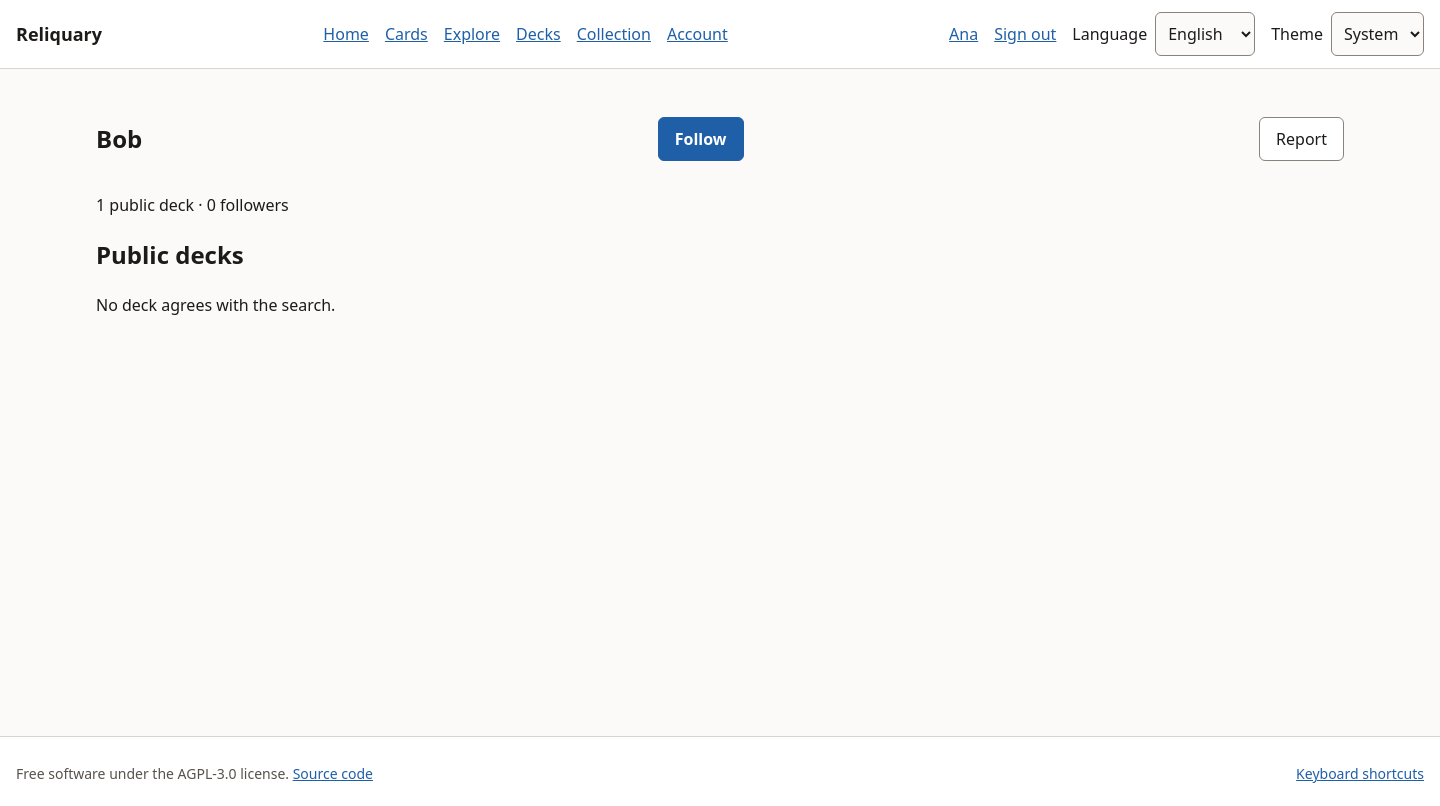
Scenario: report dialog › shows the error of a second report and of the rate limit
Click the button "Report": (1302, 139) x1=1259 y1=117 x2=1344 y2=161
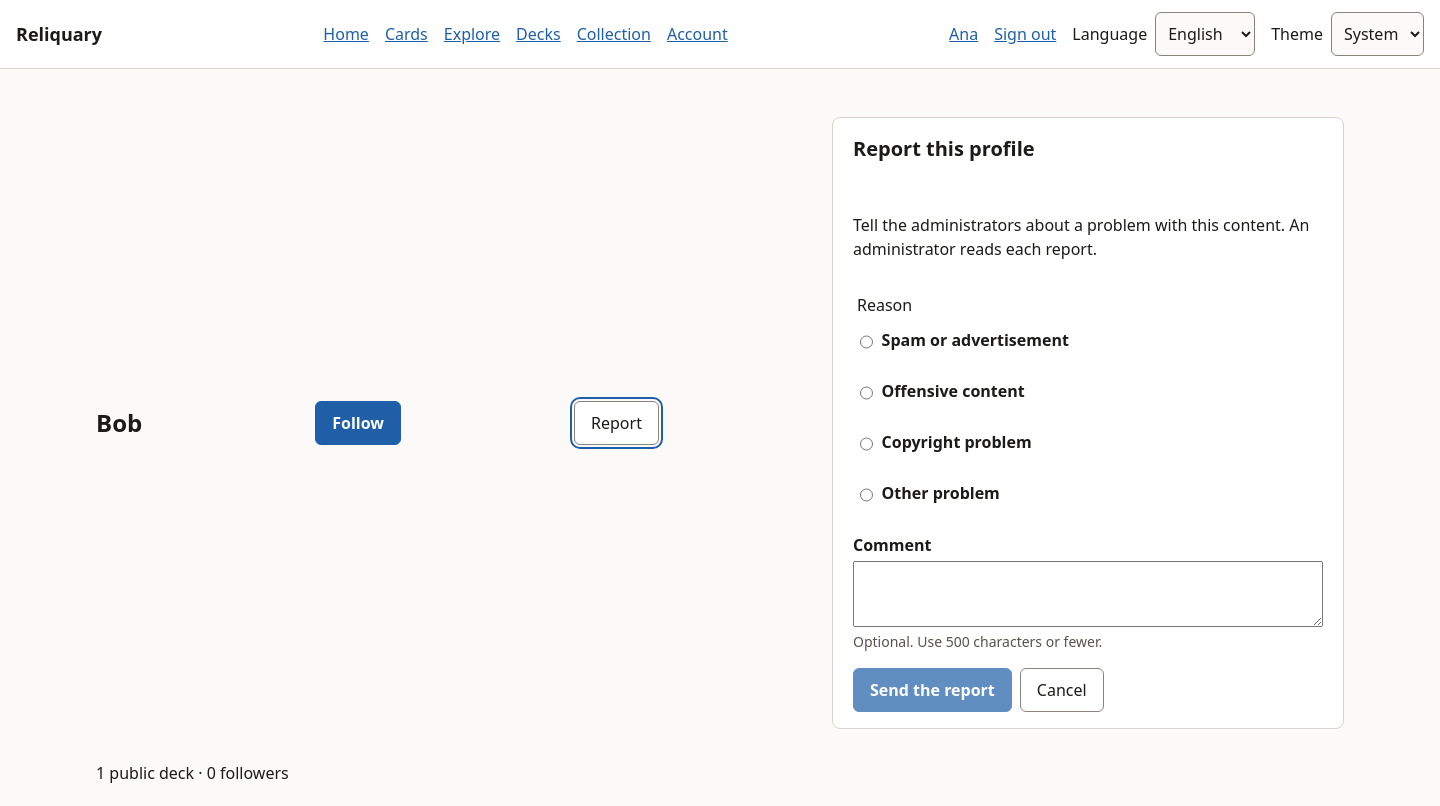
Click the radio button labelled "Other problem": (866, 495) x1=860 y1=473 x2=873 y2=517
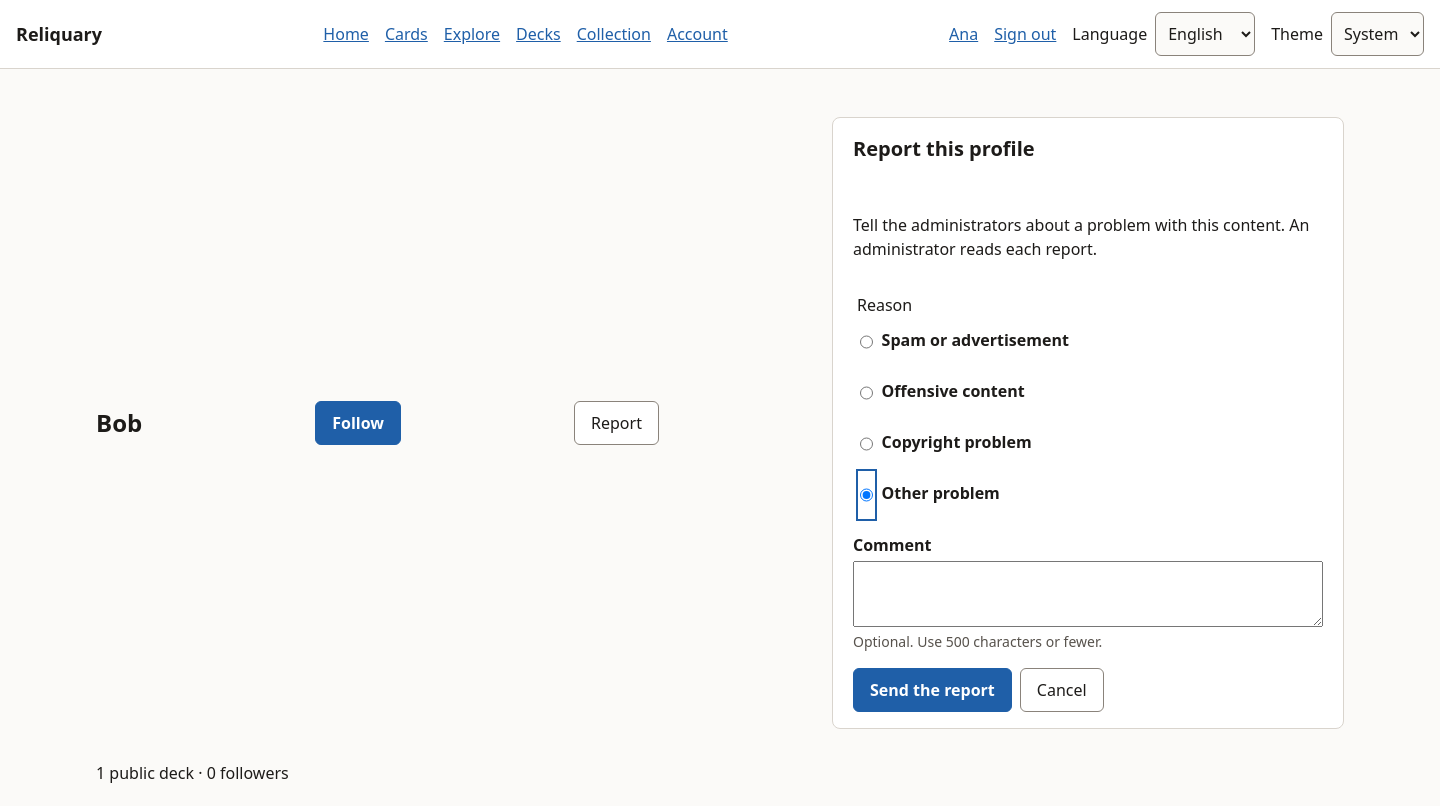
Click the button "Send the report": (932, 690) x1=853 y1=668 x2=1012 y2=712
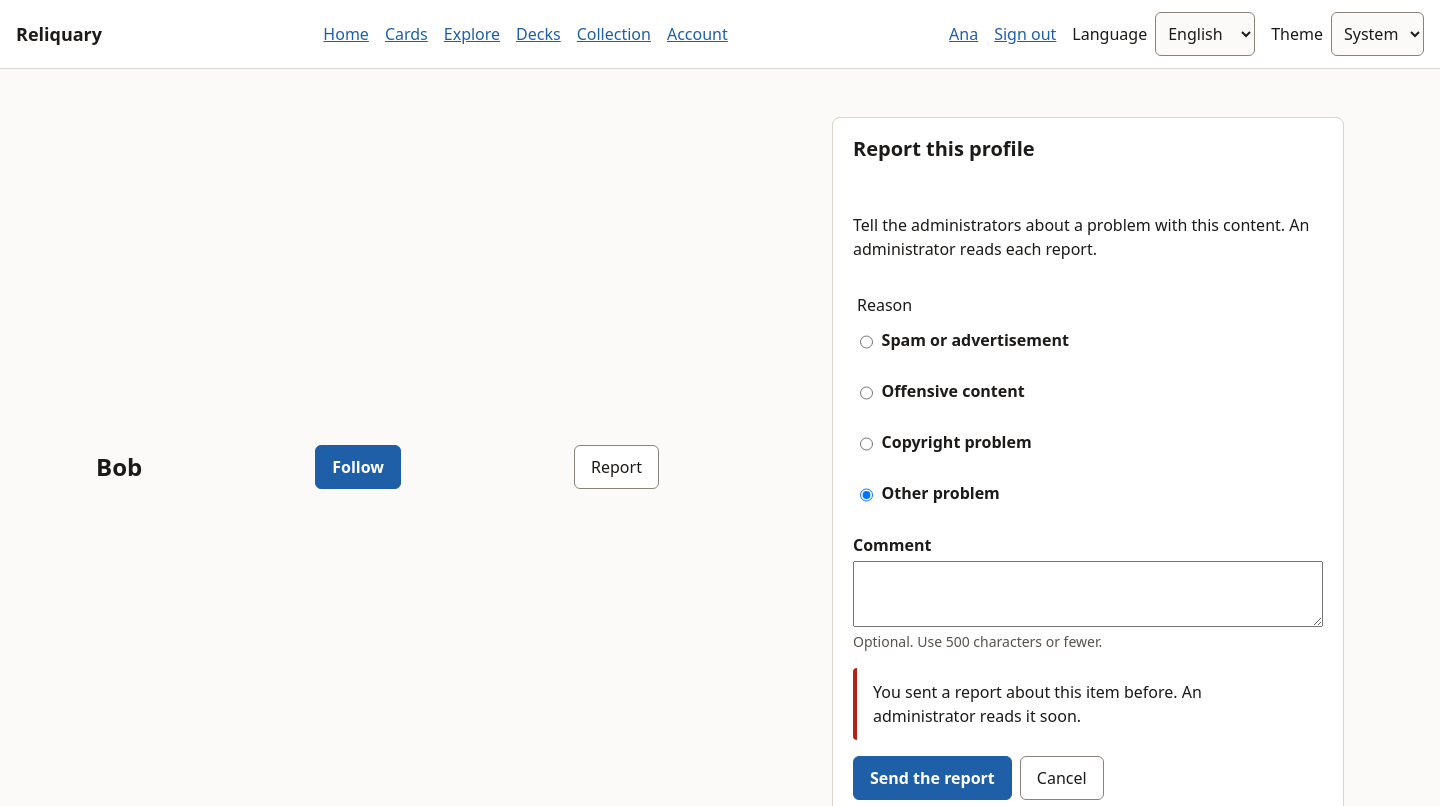
Now the message shows "You sent a report about this item before.", box x1=873 y1=681 x2=1202 y2=727
Click the button "Send the report": (932, 778) x1=853 y1=756 x2=1012 y2=800
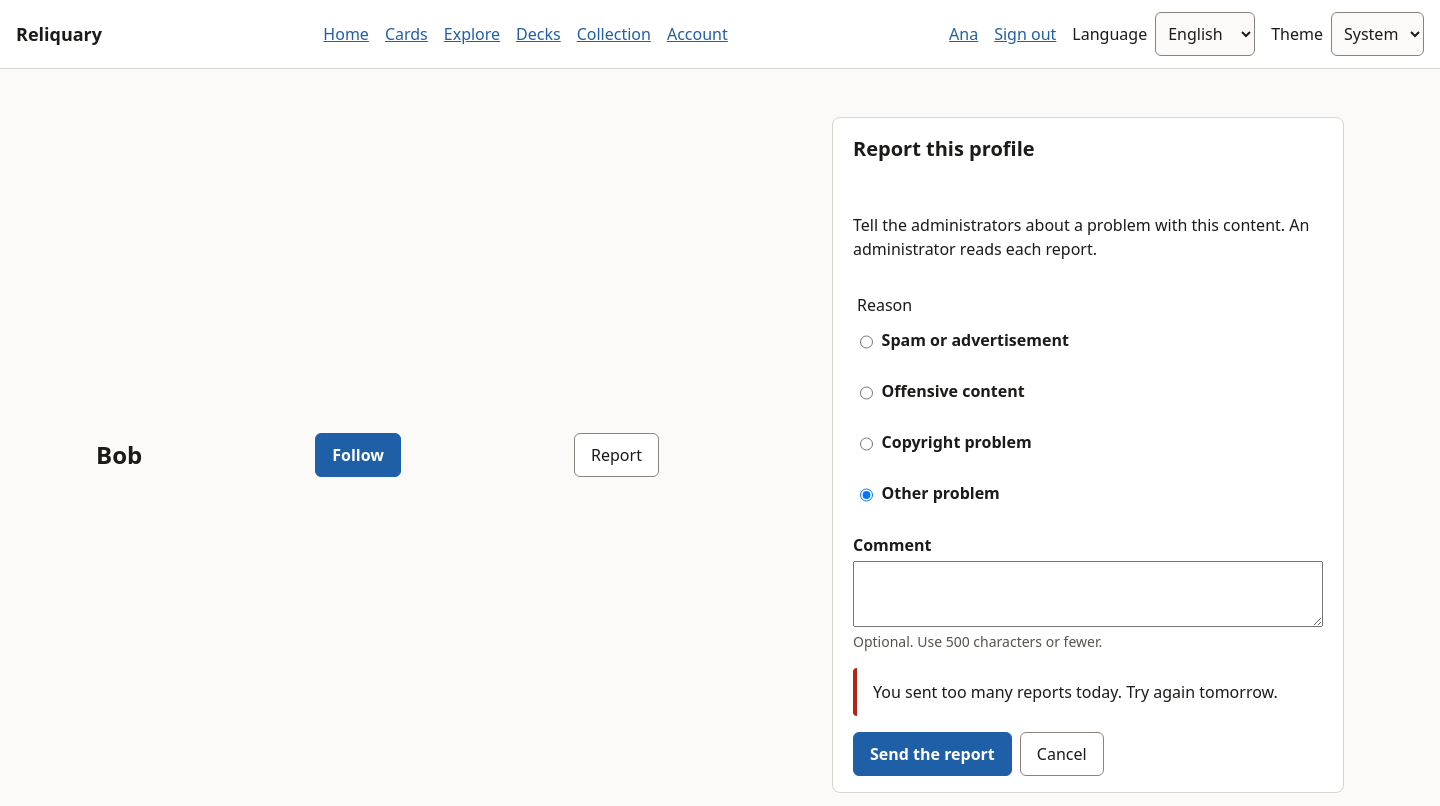
Now the dialog is shown, box x1=832 y1=117 x2=1344 y2=793
Now the message reads "You sent too many reports today. Try again tomorrow.", box x1=873 y1=681 x2=1278 y2=703
